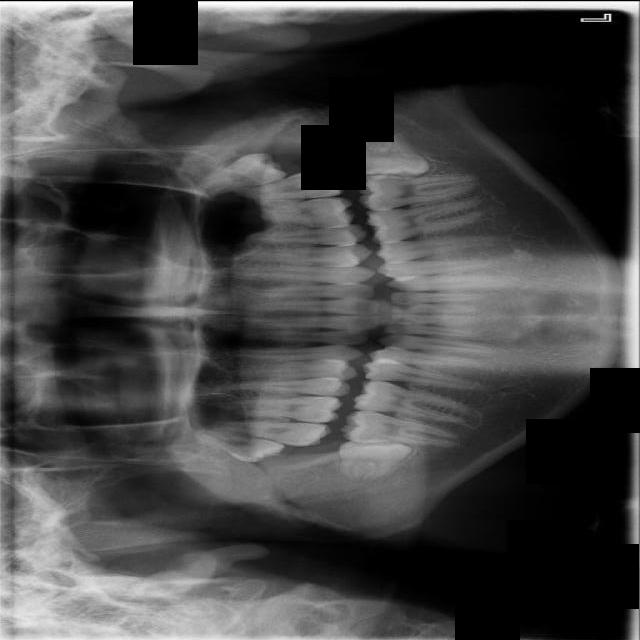3M ESPE Implant: (194, 417, 285, 472)
73: (562, 24, 572, 28)
BioHorizons Implant: (218, 166, 347, 206)
BioLife Implant: (178, 145, 297, 203)
Biomet 3i Implant: (351, 125, 434, 184)
Blue Sky Bio Implant: (357, 172, 480, 210)
Caries: (212, 414, 332, 447)
Implant: (340, 406, 461, 455)
Keystone Dental Implant: (337, 435, 413, 483)
